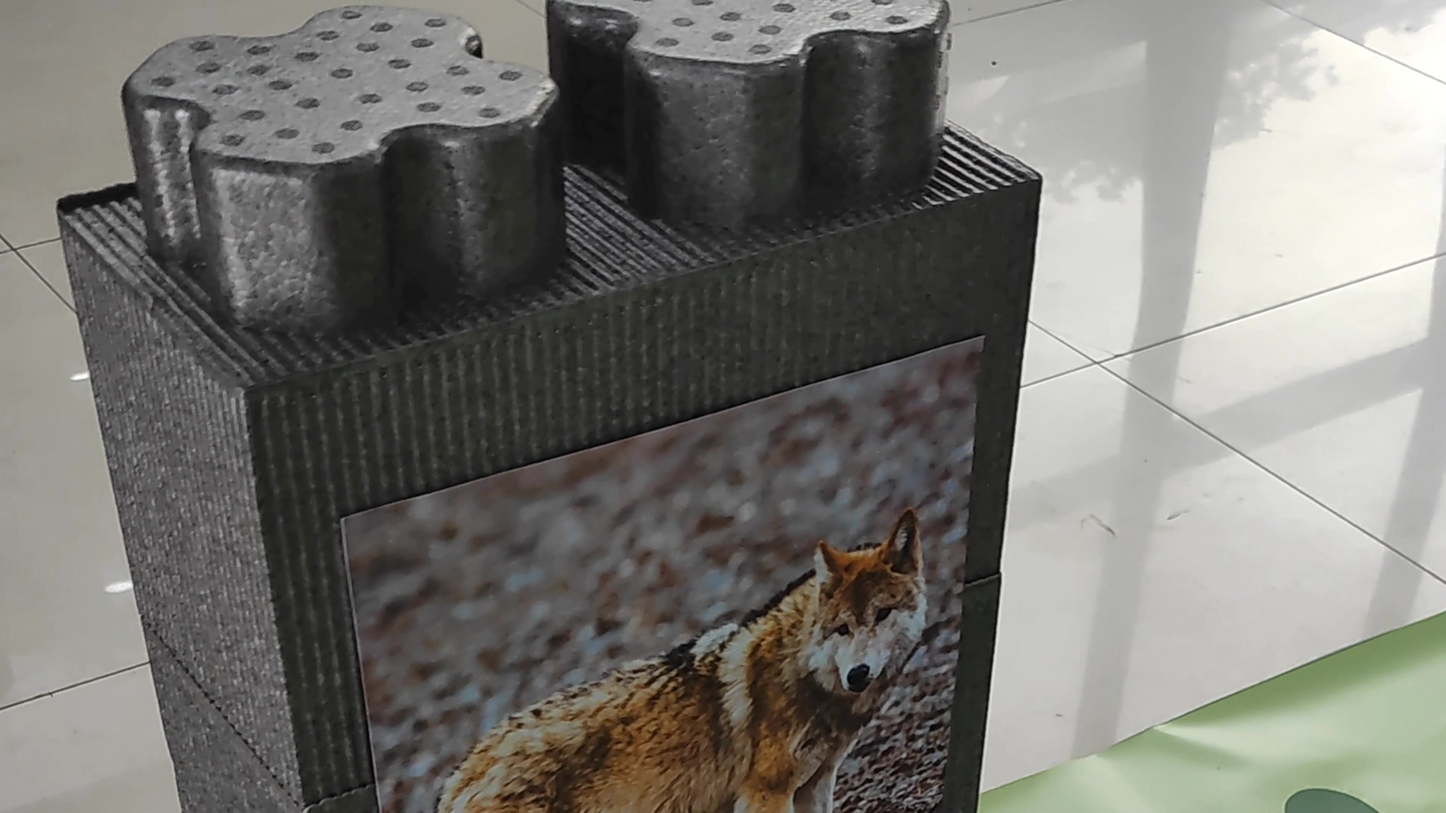wolf: (394, 502, 943, 813)
